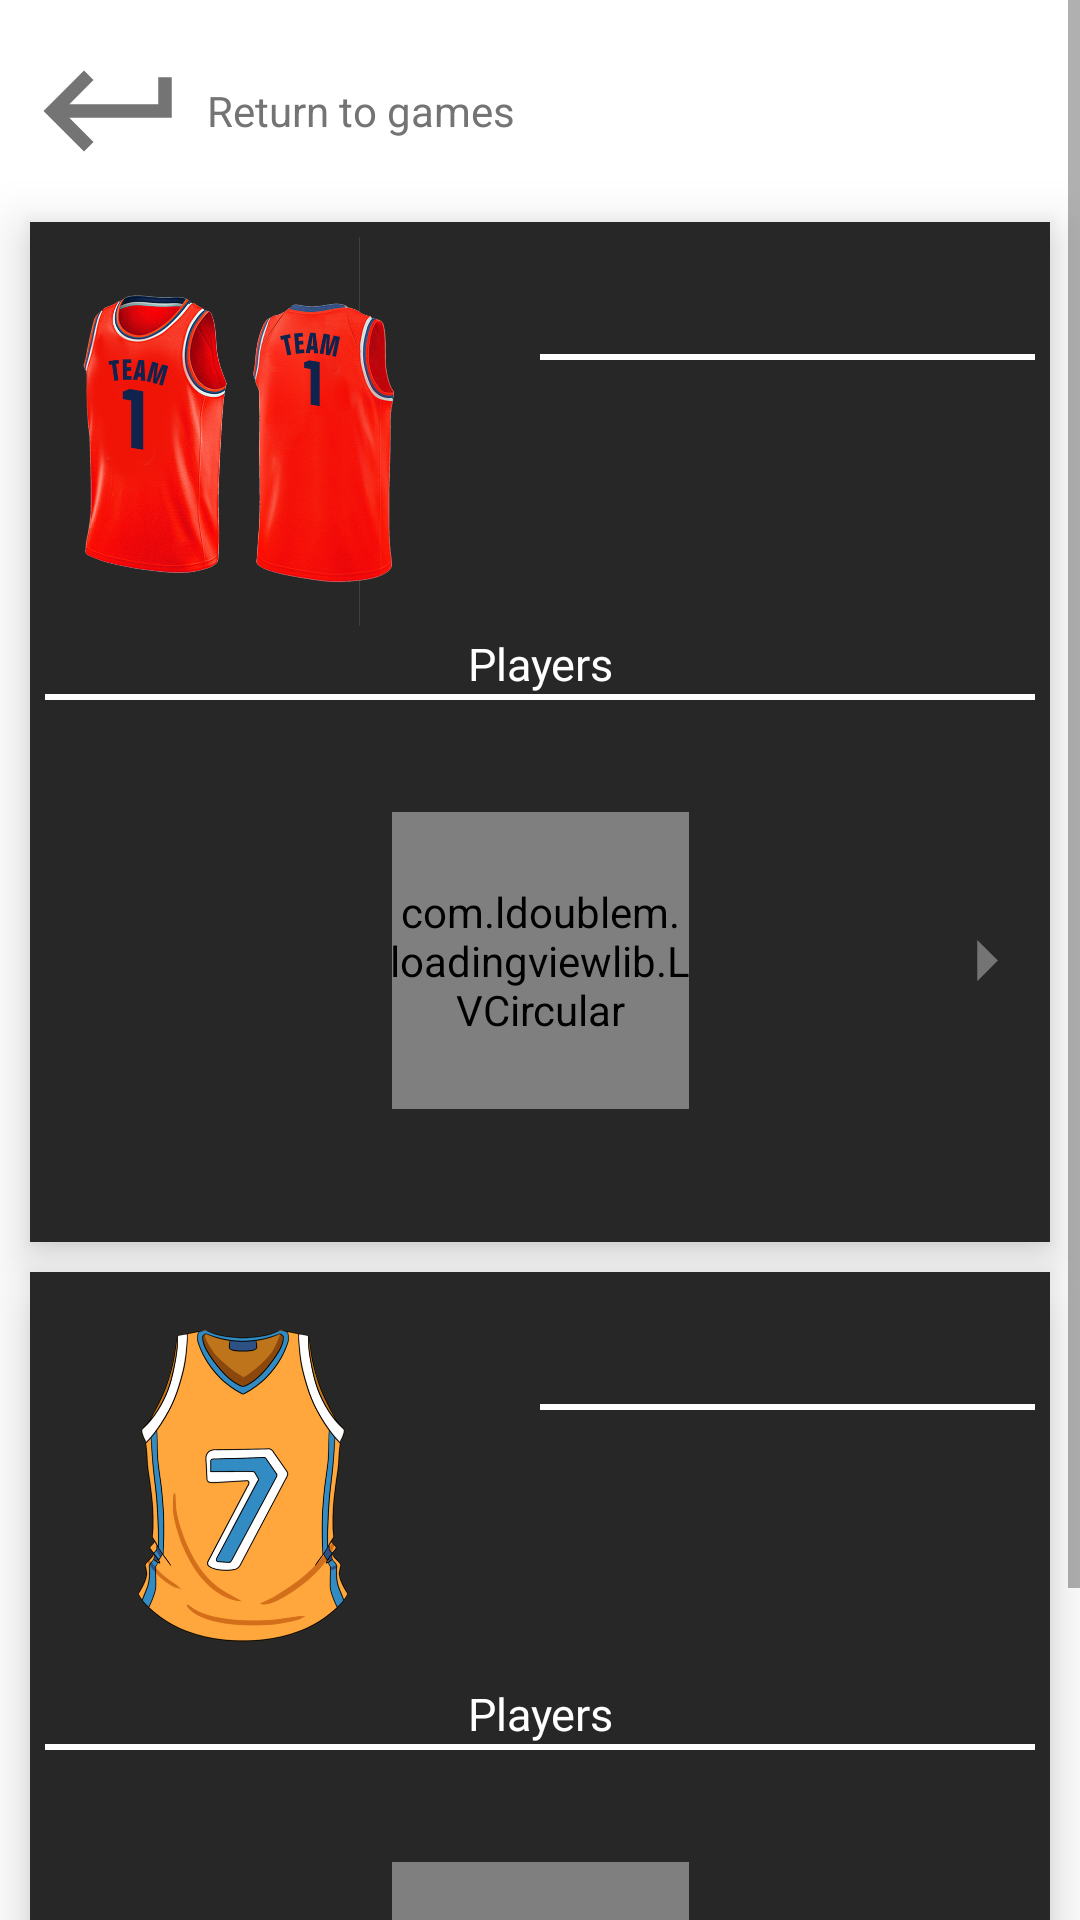

Icons on this 1080px×1920px Android screen, each with the point to tap as [x,y]:
arrow right: [987,960]
keyboard return: [108,111]
